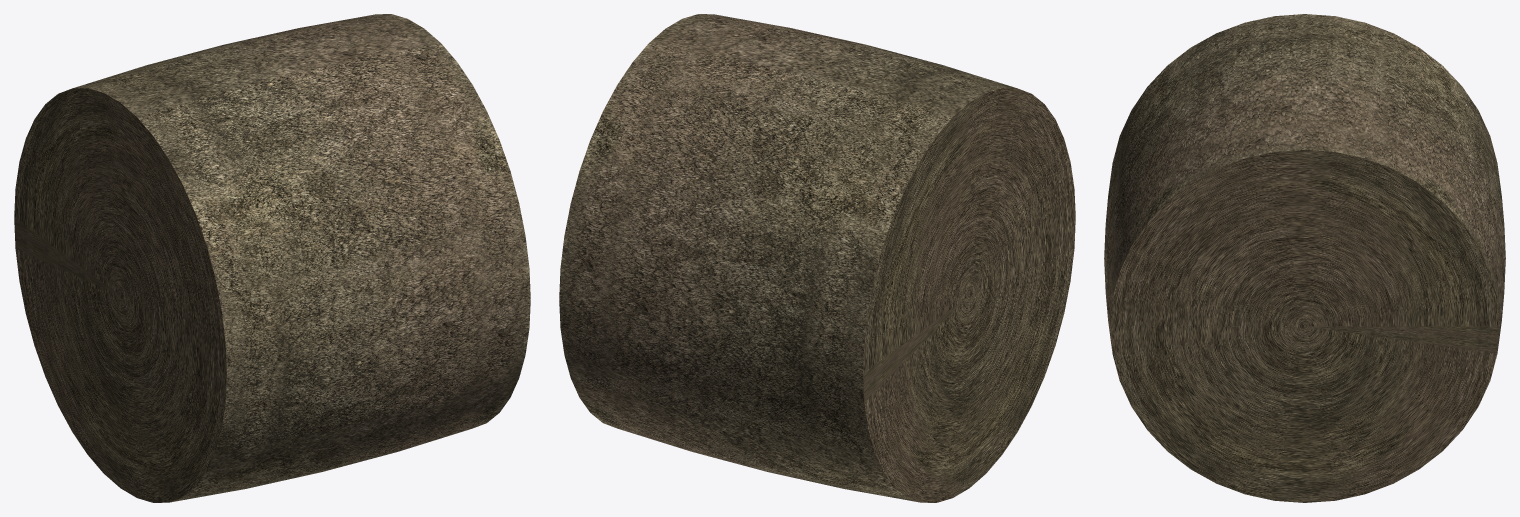
File: HayBaleRound.gltf
3 renders of one model, left to right at view 1: azimuth 30°, elevation 25°; view 2: azimuth 150°, elevation 25°; view 3: azimuth 270°, elevation 25°, orthographic. The views are drawn at different scales.
Visible parts, largest first — view 1: HayBaleRound; view 2: HayBaleRound; view 3: HayBaleRound.
Boxes of the visible parts, left/top/right/bottom form: HayBaleRound: left=14, top=14, right=530, bottom=502; HayBaleRound: left=559, top=14, right=1075, bottom=502; HayBaleRound: left=1104, top=14, right=1505, bottom=502.
Size of the model in its own units: 1.2 by 1.5 by 1.5.
Materials: 2 (2 with a texture image).
